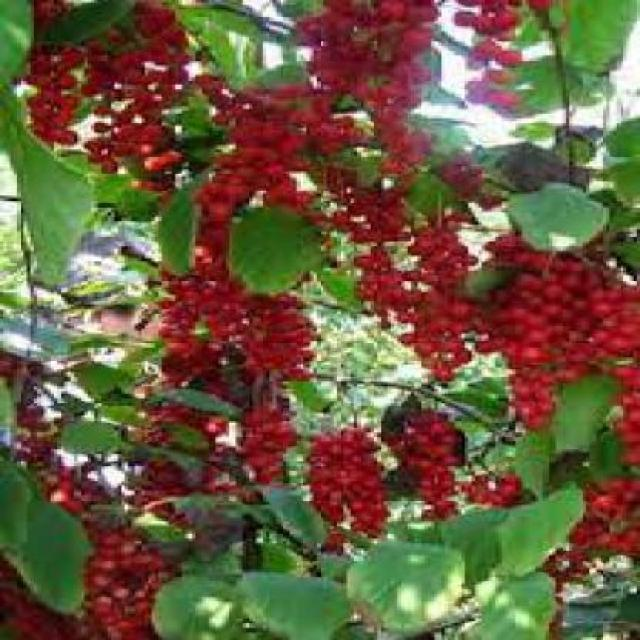RIPE: (152, 266, 294, 483), (481, 242, 637, 416), (317, 0, 421, 220), (343, 239, 482, 382), (202, 70, 300, 259), (96, 12, 187, 165), (68, 516, 165, 639), (303, 426, 388, 532), (396, 414, 470, 511), (31, 42, 88, 122)
